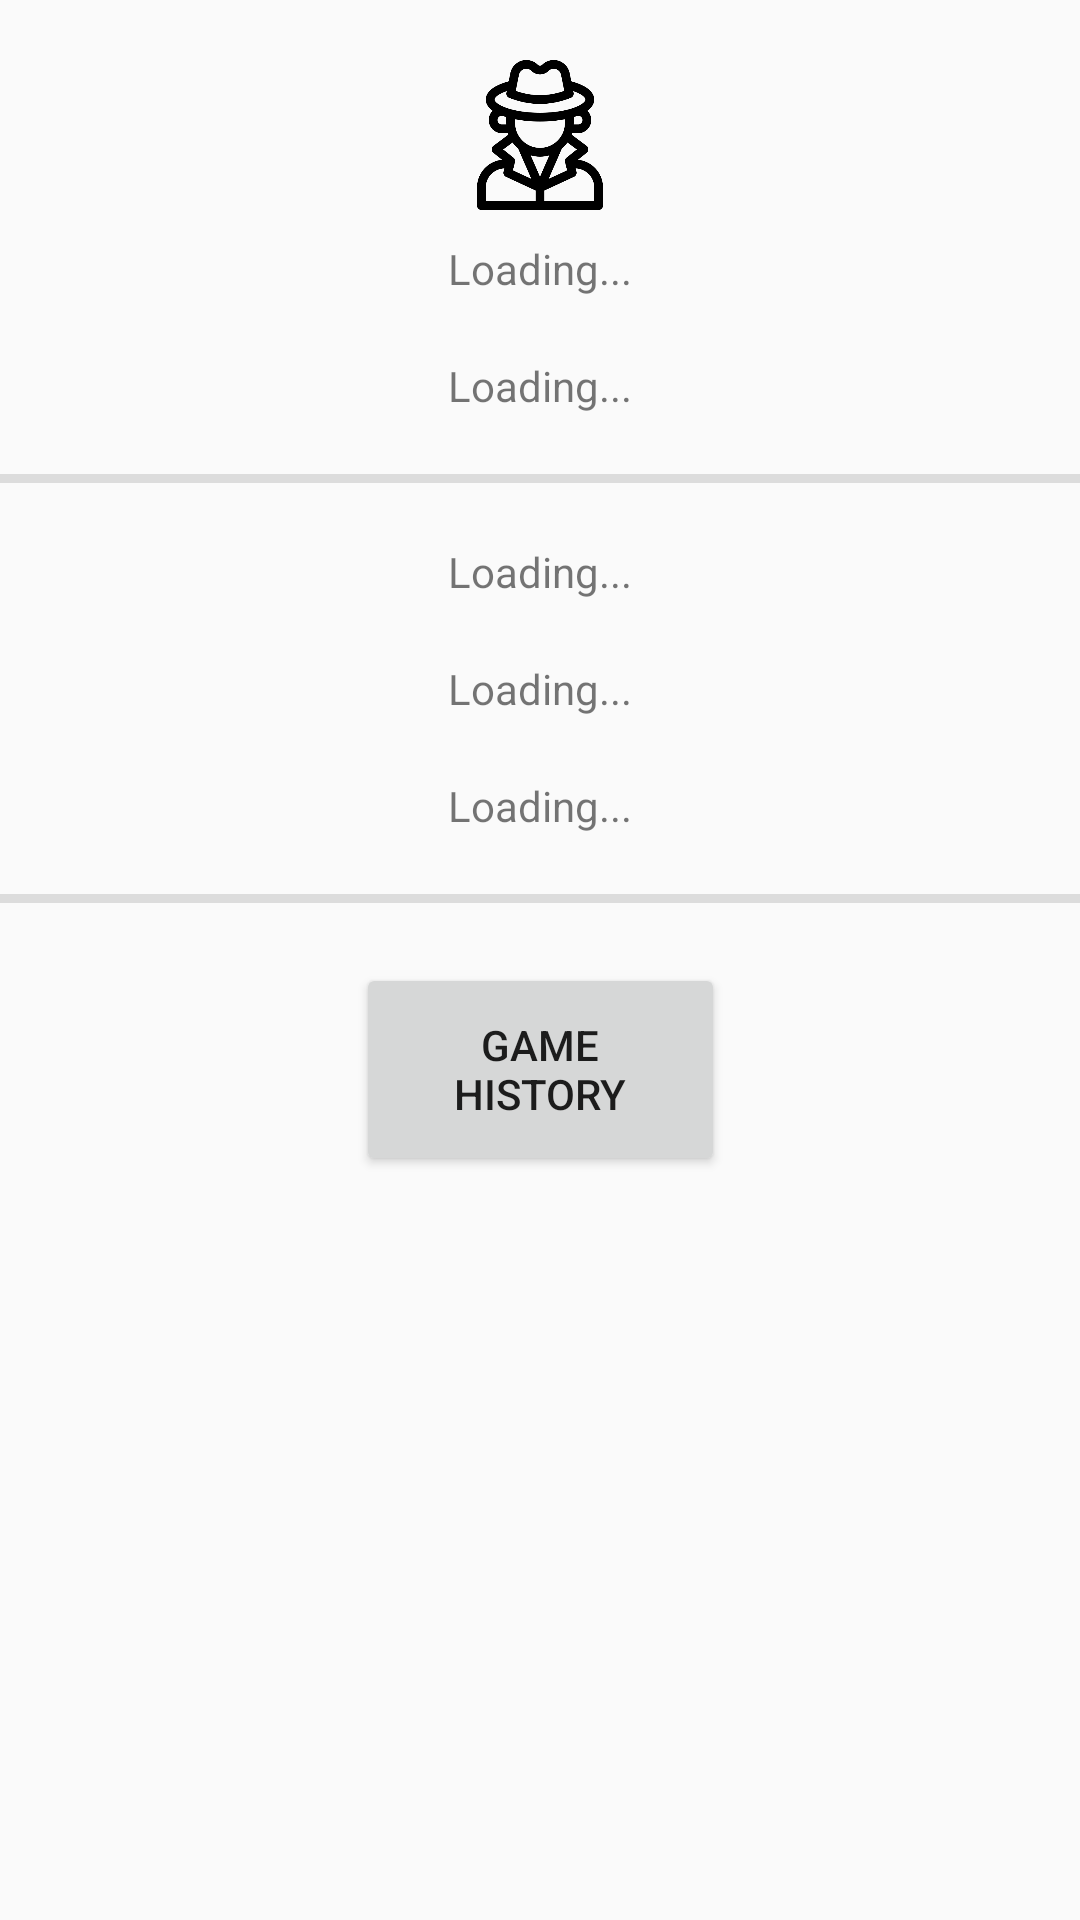

Named icons in this screenshot (1080w x 1920h) and their centers, [x,y]:
profileicon: [540,135]
